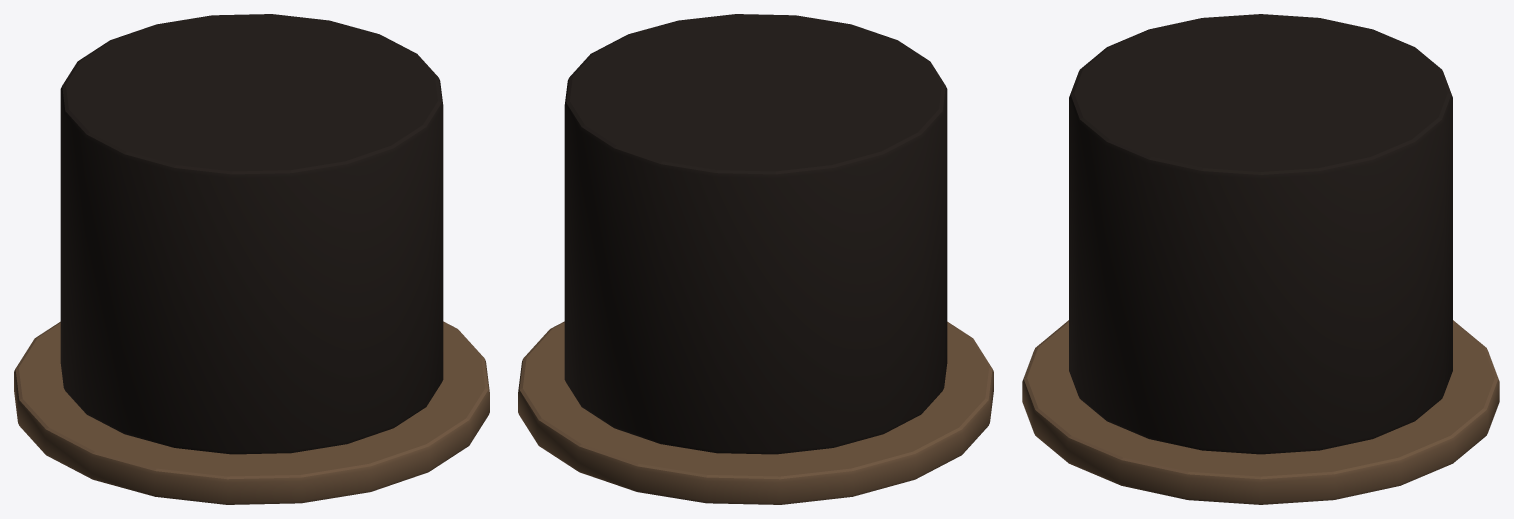
File: ceiling_light_premium_single_lod1.glb
The picture shows the model from 3 angles, left to right: view 1: azimuth 30°, elevation 25°; view 2: azimuth 150°, elevation 25°; view 3: azimuth 270°, elevation 25°; orthographic projection.
Parts seen in each view (by area): view 1: LOD1_Downlight_01_RoughInHousing, BATCH_Root_Premium_DarkBronze.001; view 2: LOD1_Downlight_01_RoughInHousing, BATCH_Root_Premium_DarkBronze.001; view 3: LOD1_Downlight_01_RoughInHousing, BATCH_Root_Premium_DarkBronze.001.
Part boxes in pixels (left/top/right/bottom): LOD1_Downlight_01_RoughInHousing: left=60, top=14, right=443, bottom=454; BATCH_Root_Premium_DarkBronze.001: left=14, top=321, right=489, bottom=504; LOD1_Downlight_01_RoughInHousing: left=564, top=14, right=947, bottom=454; BATCH_Root_Premium_DarkBronze.001: left=518, top=321, right=993, bottom=504; LOD1_Downlight_01_RoughInHousing: left=1069, top=14, right=1452, bottom=454; BATCH_Root_Premium_DarkBronze.001: left=1022, top=320, right=1499, bottom=504.
Size of what is drawn, in the model's own units: 0.184 by 0.145 by 0.184.
